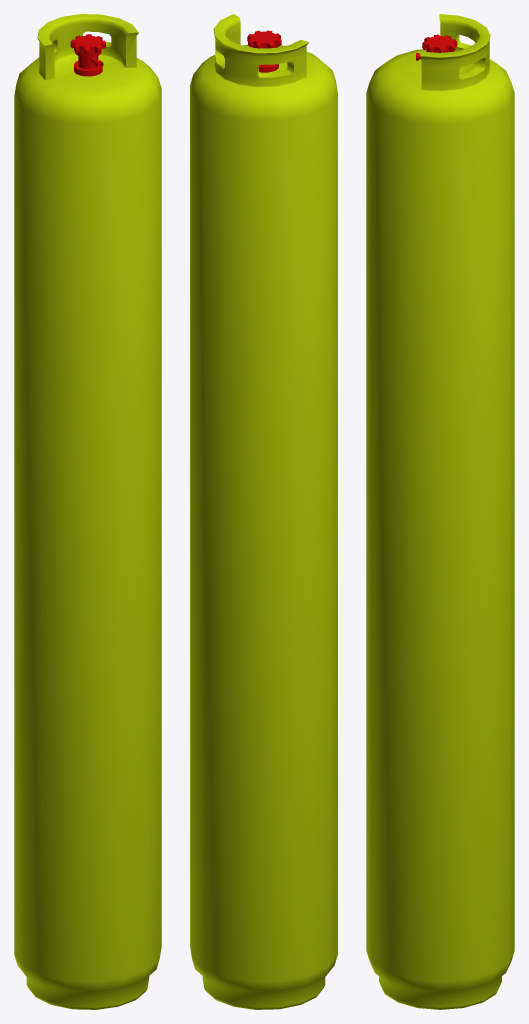
File: Nitrogen Tank.fbx
3 views of the same model, side by side, from view 1: azimuth 30°, elevation 25°; view 2: azimuth 150°, elevation 25°; view 3: azimuth 270°, elevation 25° (orthographic).
Parts seen in each view (by area): view 1: Nitrogen tank; view 2: Nitrogen tank; view 3: Nitrogen tank.
Part boxes in pixels (x1,y1,x2,y2): Nitrogen tank: (14,14,161,1009); Nitrogen tank: (190,14,337,1009); Nitrogen tank: (366,14,514,1009).
Bounding box in the file's own units: 0.1698 × 1.2 × 0.1698.
